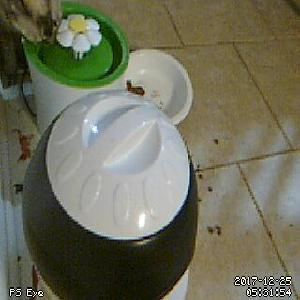cat: (1, 1, 63, 90)
fountain: (21, 4, 129, 90)
